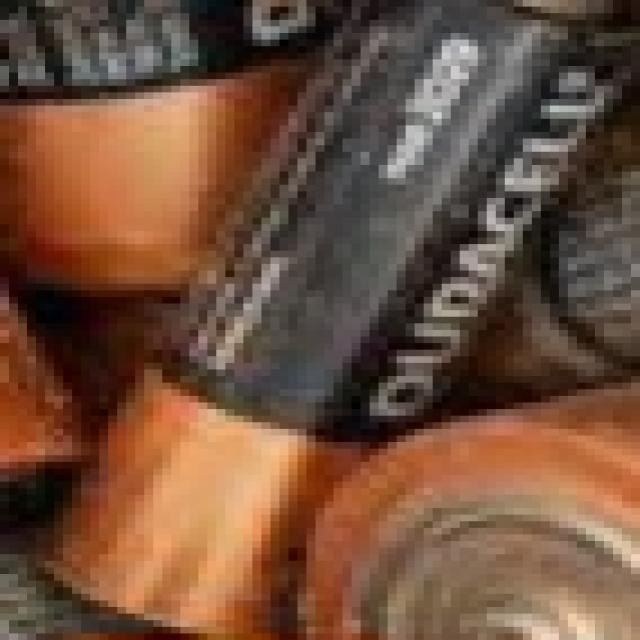battery: (39, 0, 640, 617)
